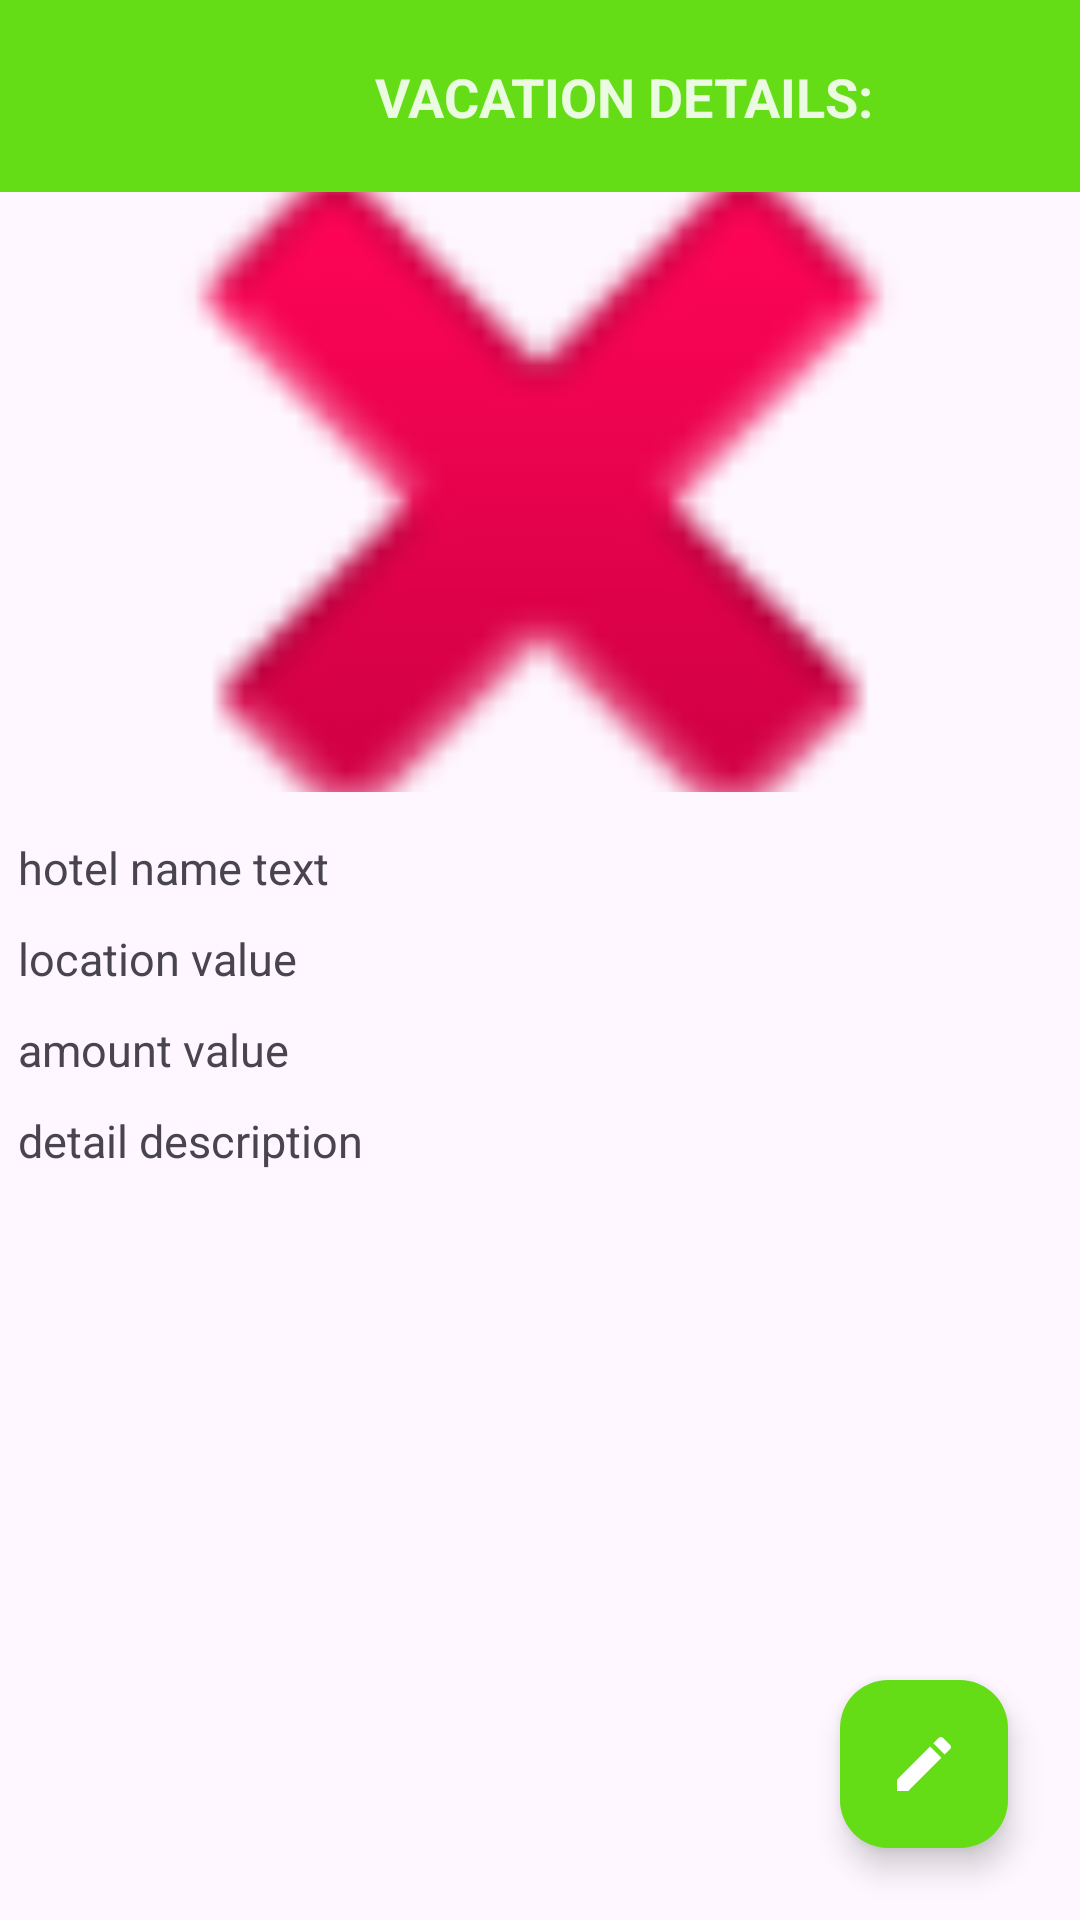

Screen size 1080px×1920px. Icon name, then its center in pixels as (x=x, y=y):
edit: (x=924, y=1764)
